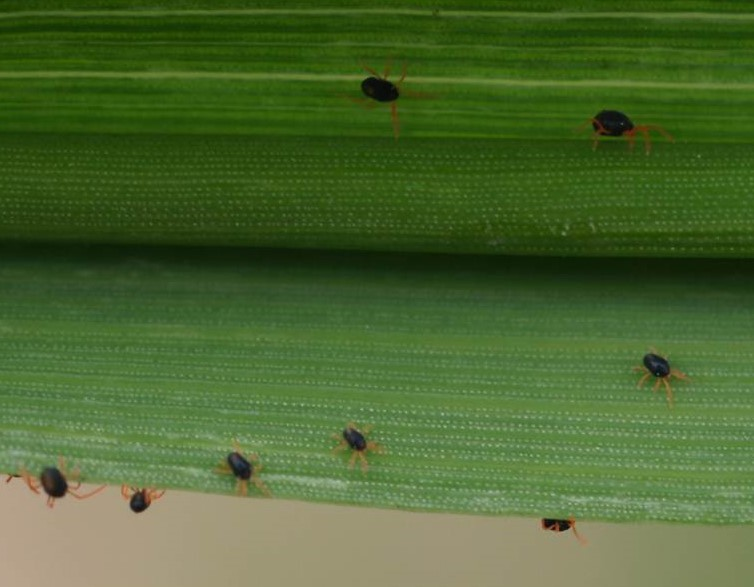Wheat Red Spider: (204, 398, 397, 492), (617, 336, 702, 414)
